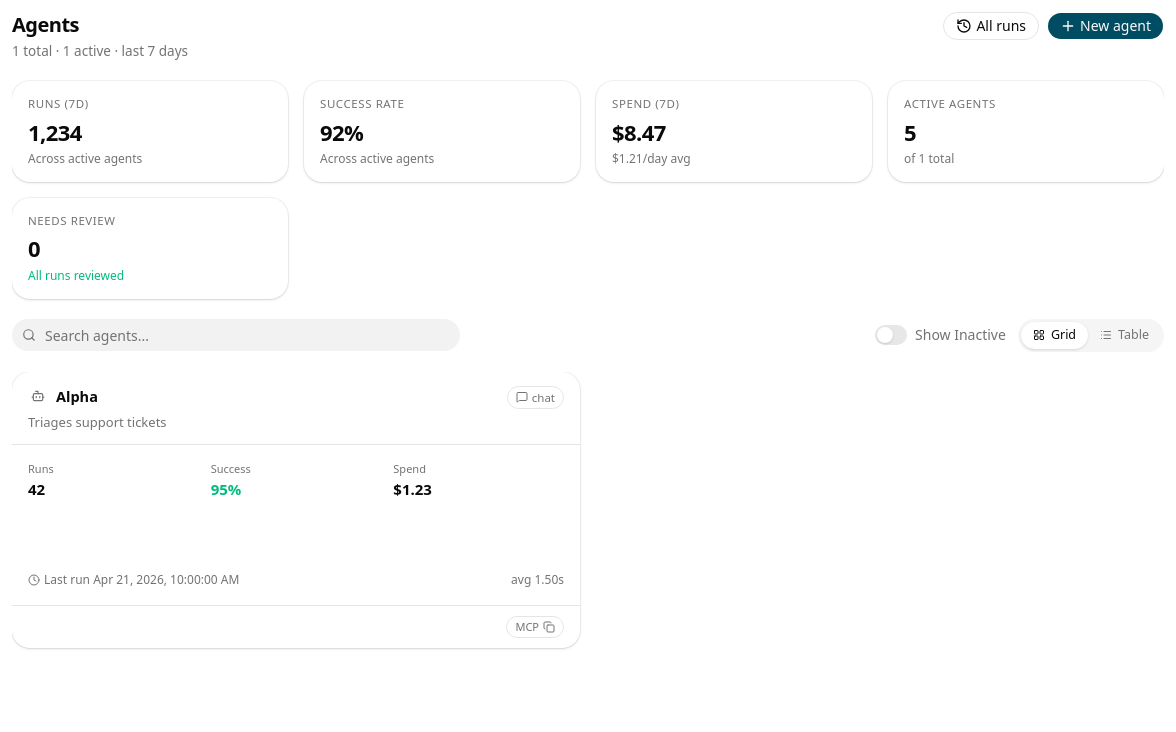
it: FleetPage — search filter › shows the empty state when nothing matches
The width and height of the screenshot is (1176, 732).
In the field labelled "Search agents...": [236, 335] box [12,319,460,351], type "zzzzz"
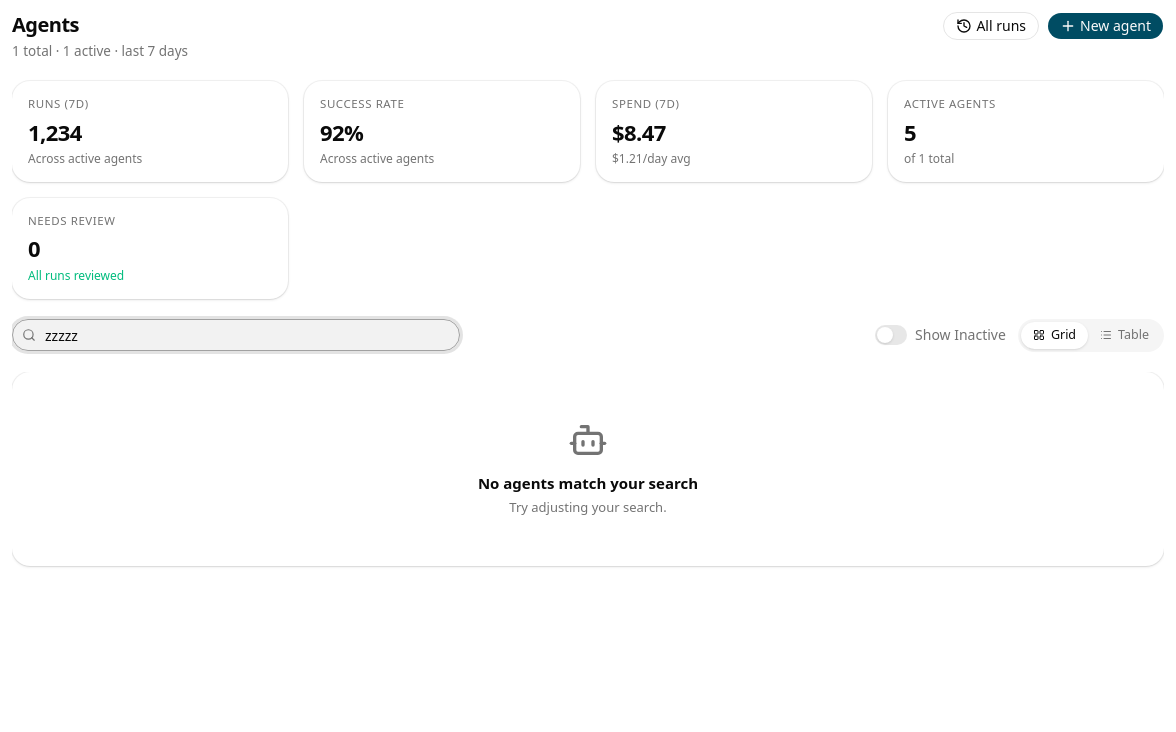
Check: the heading "No agents match your search" is shown, box [478,472,698,492]
